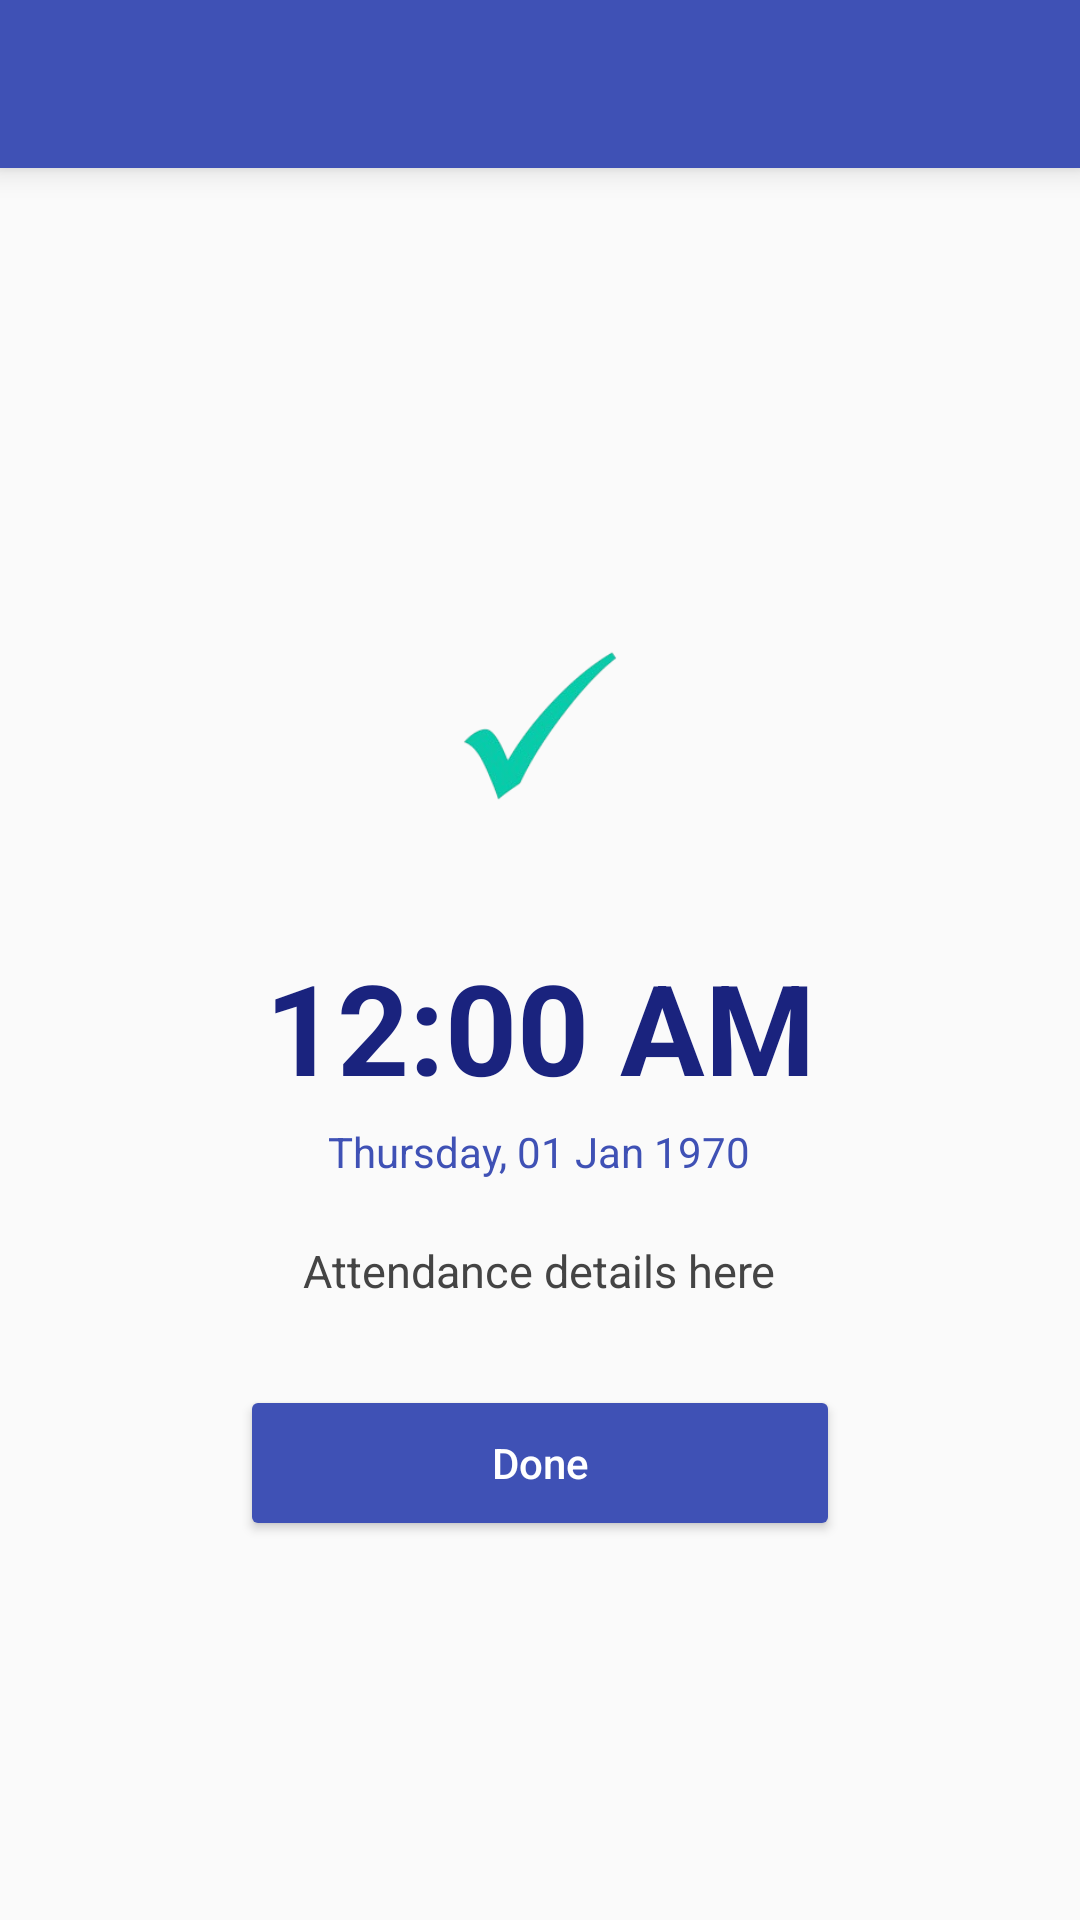

Named icons in this screenshot (1080 × 1920) and their centers, (x=x, y=y):
success: (x=540, y=725)
